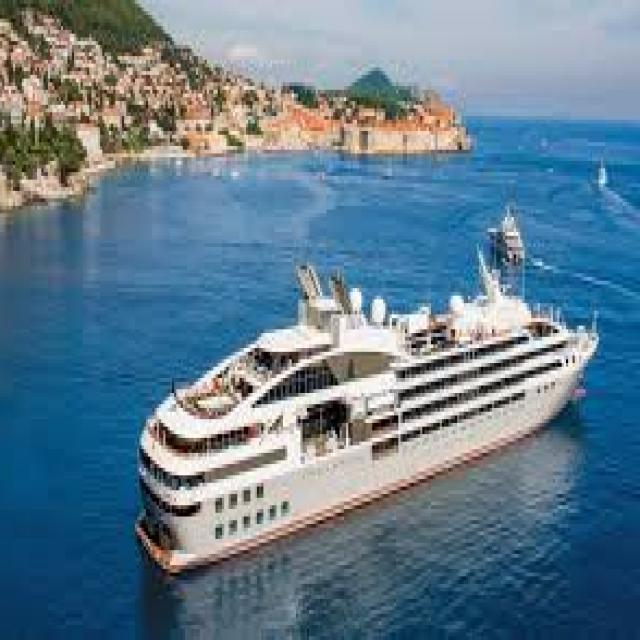PassengerShip: (189, 139, 604, 547)
